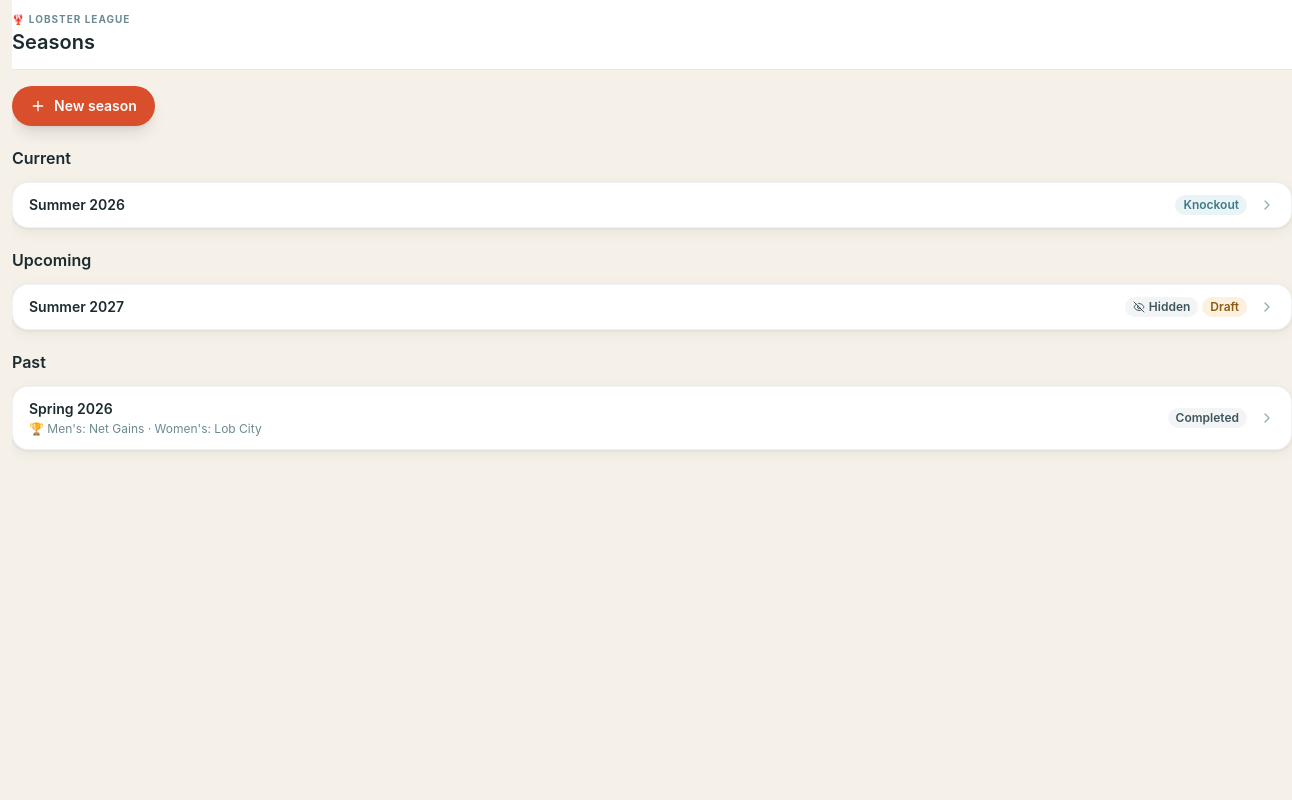
Test: SeasonsPage › requires a name and at least one division
Click the button "New season" at (83, 106), box 12,86 -> 155,126
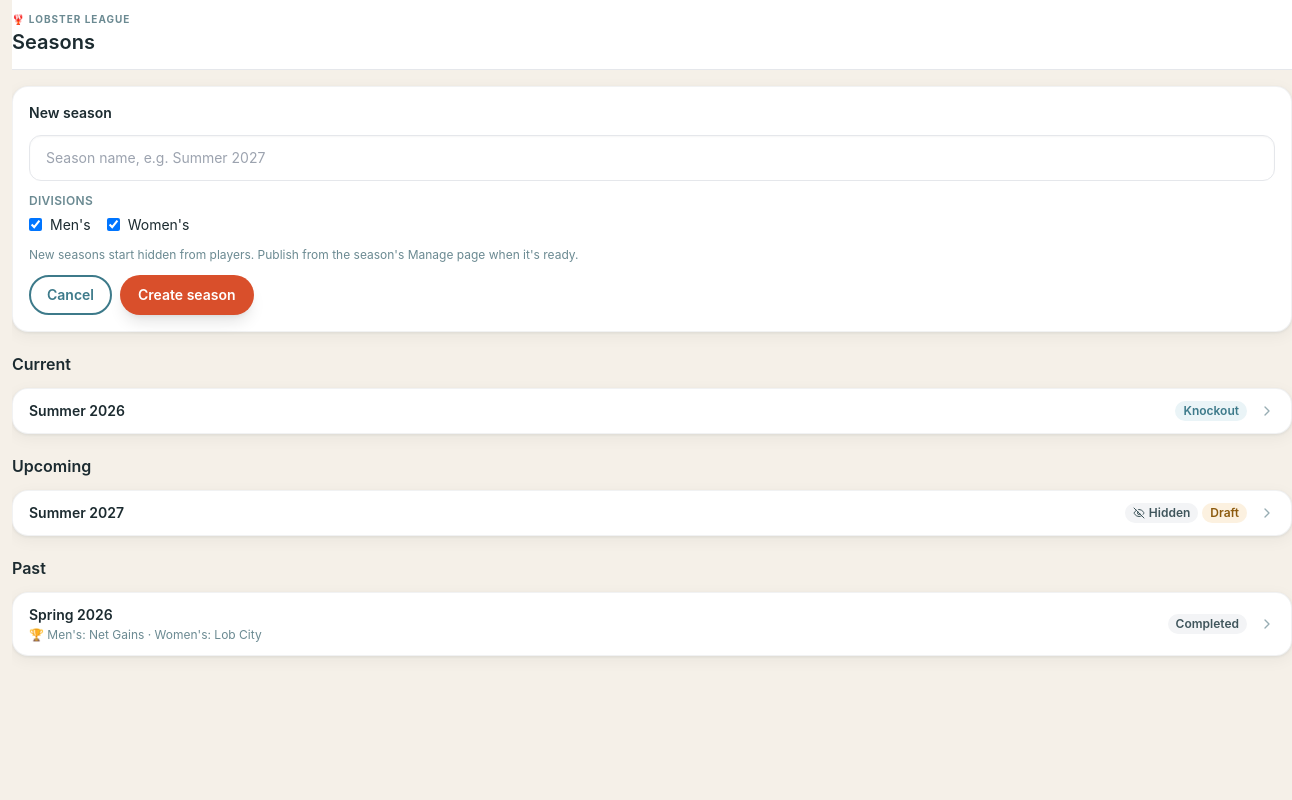
Click the button "Create season" at (187, 294), box 120,274 -> 254,314
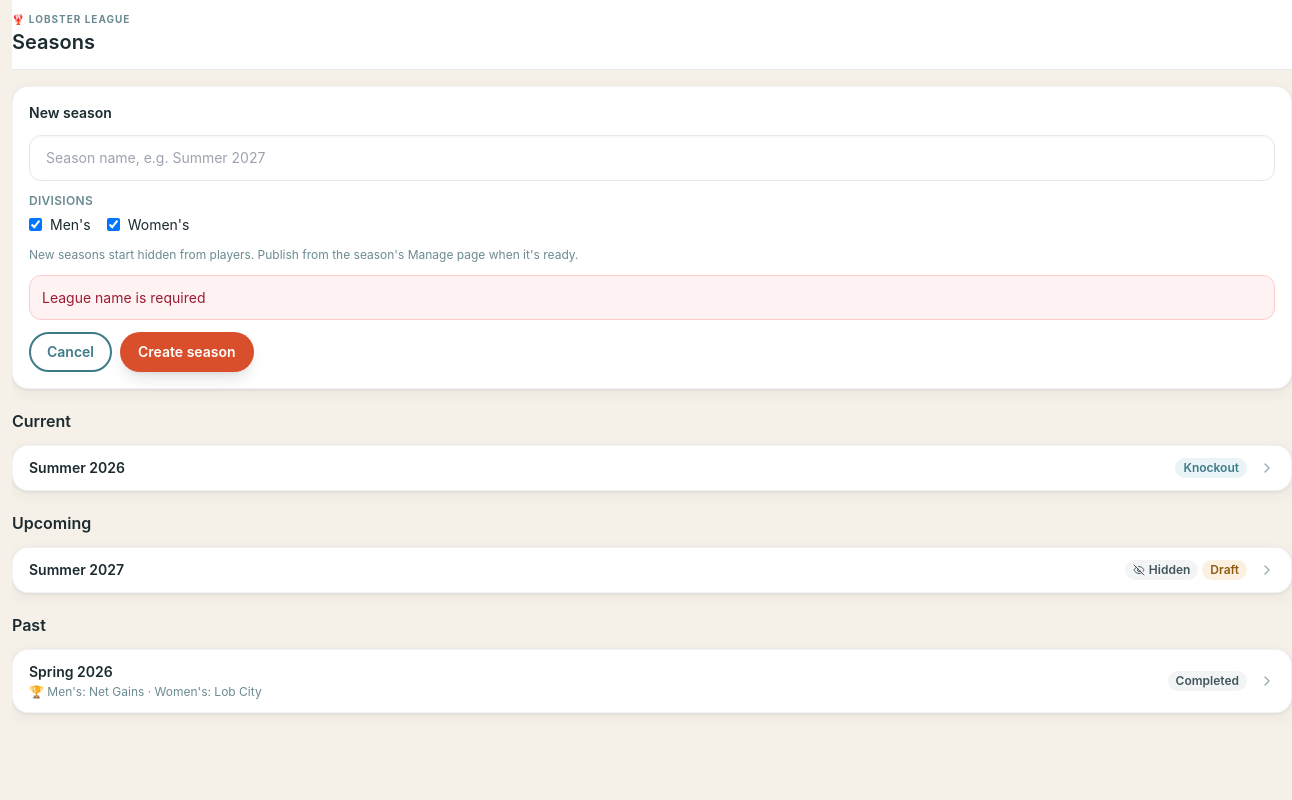
Check: the text "League name is required" is shown, box 42,288 -> 206,306
Type "X" into the field labelled "Season name" at (652, 158), box 29,134 -> 1275,180
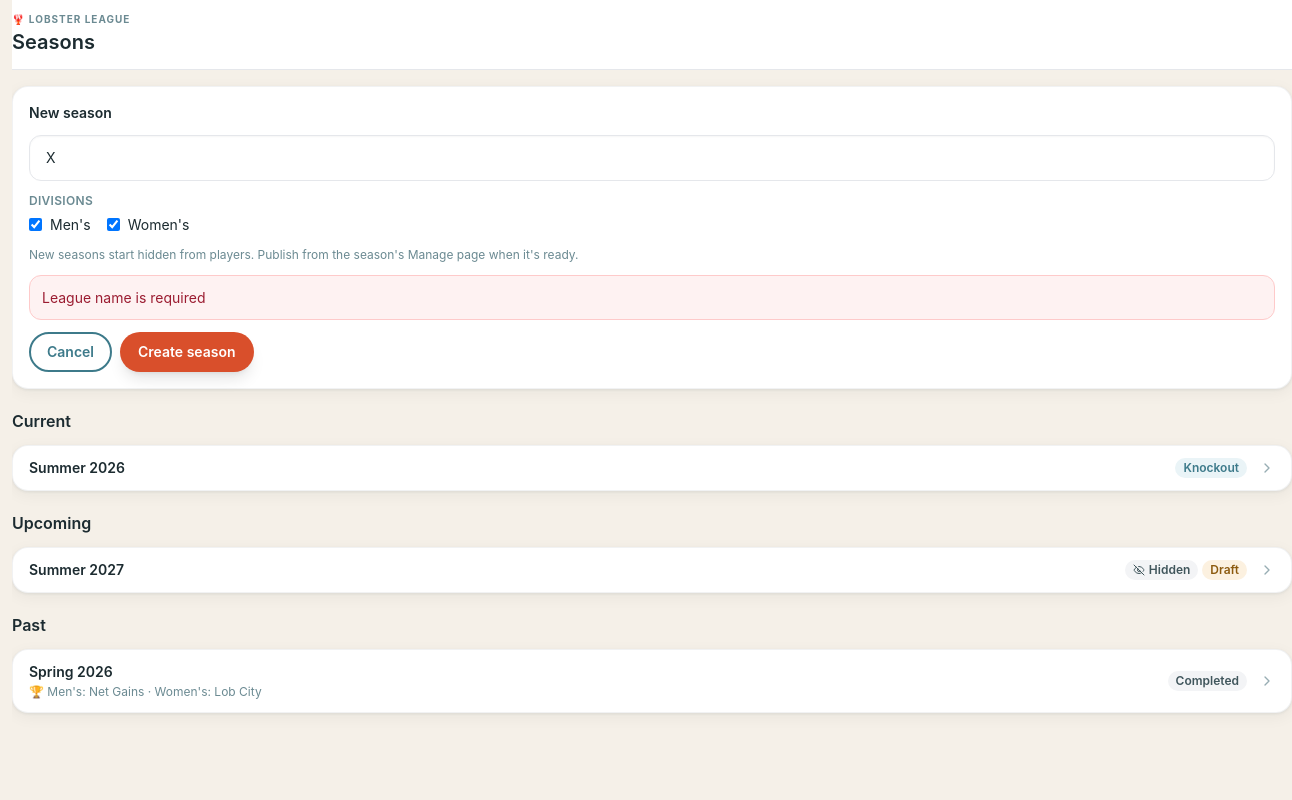
Click the checkbox labelled "Men's" at (36, 224), box 29,218 -> 42,231
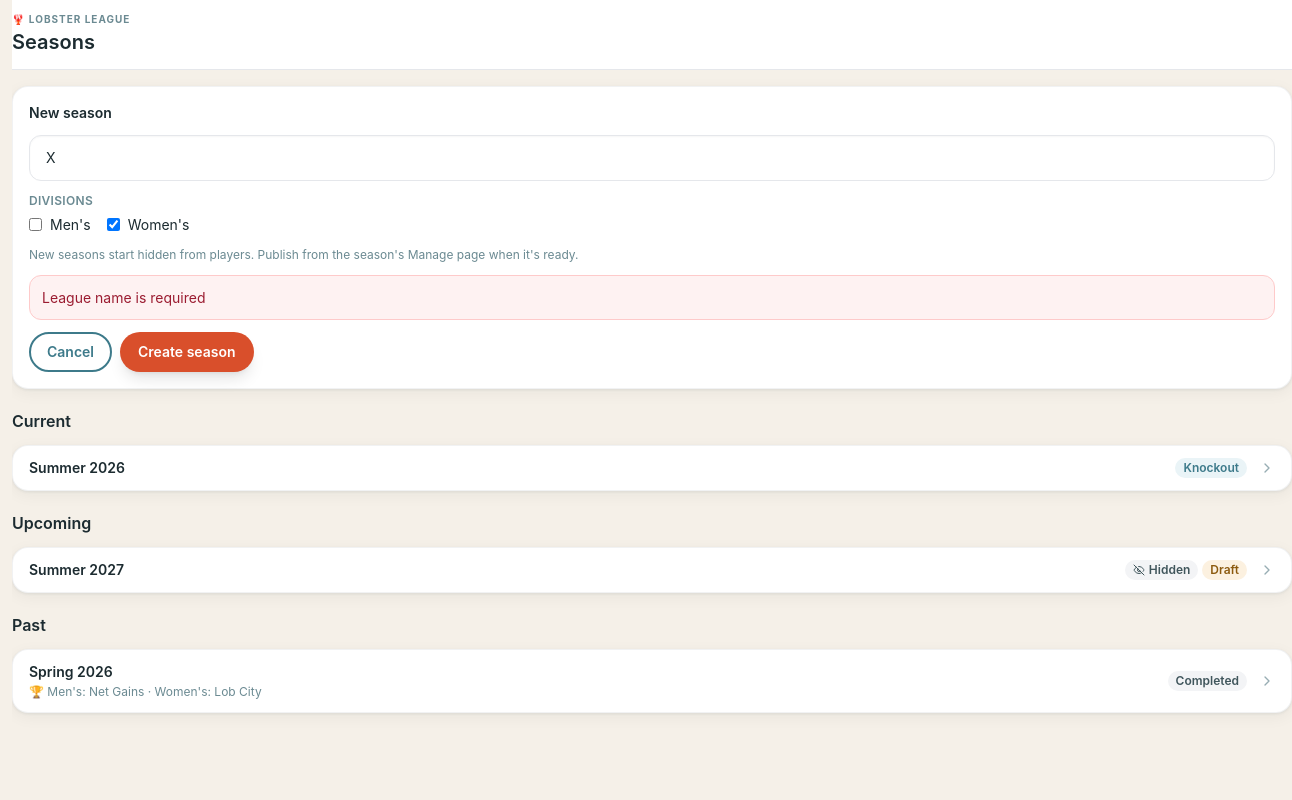
Click the checkbox labelled "Women's" at (113, 224), box 107,218 -> 120,231
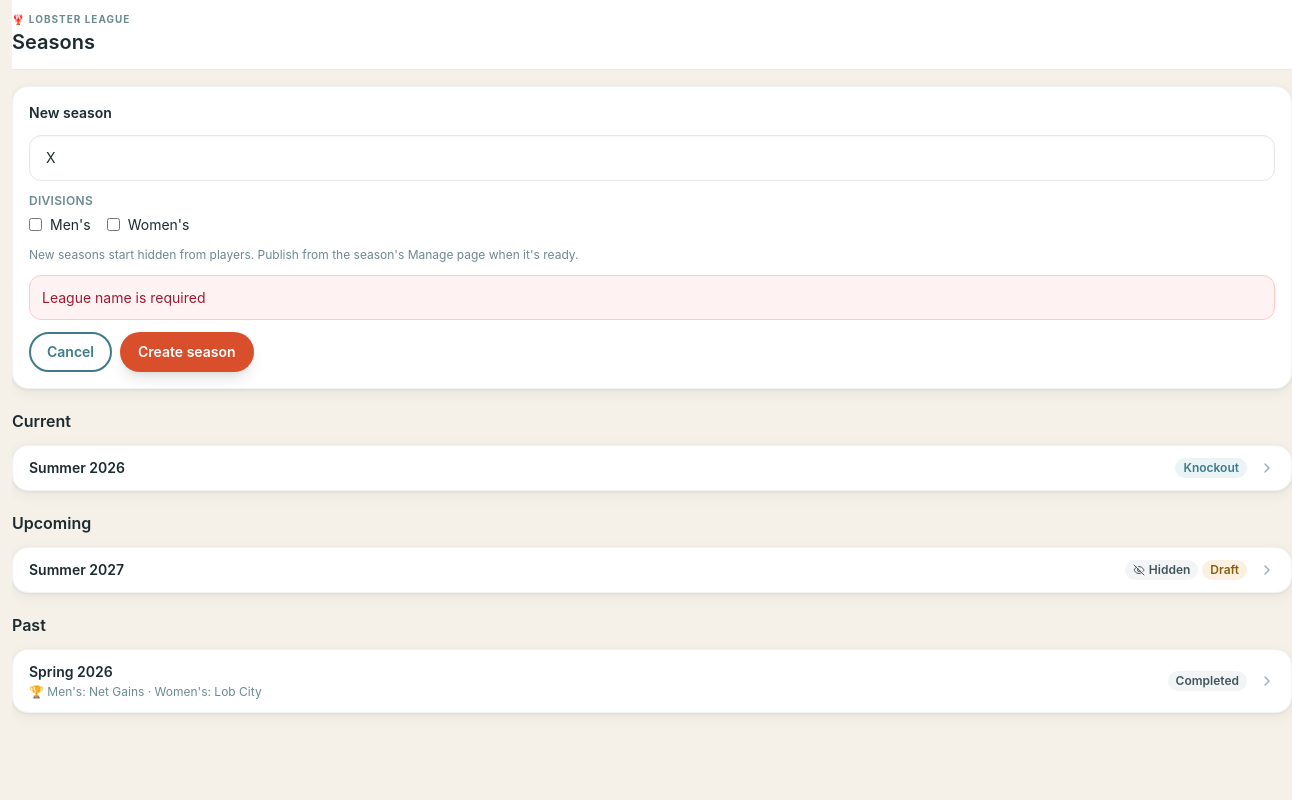
Click the button "Create season" at (187, 352), box 120,332 -> 254,372
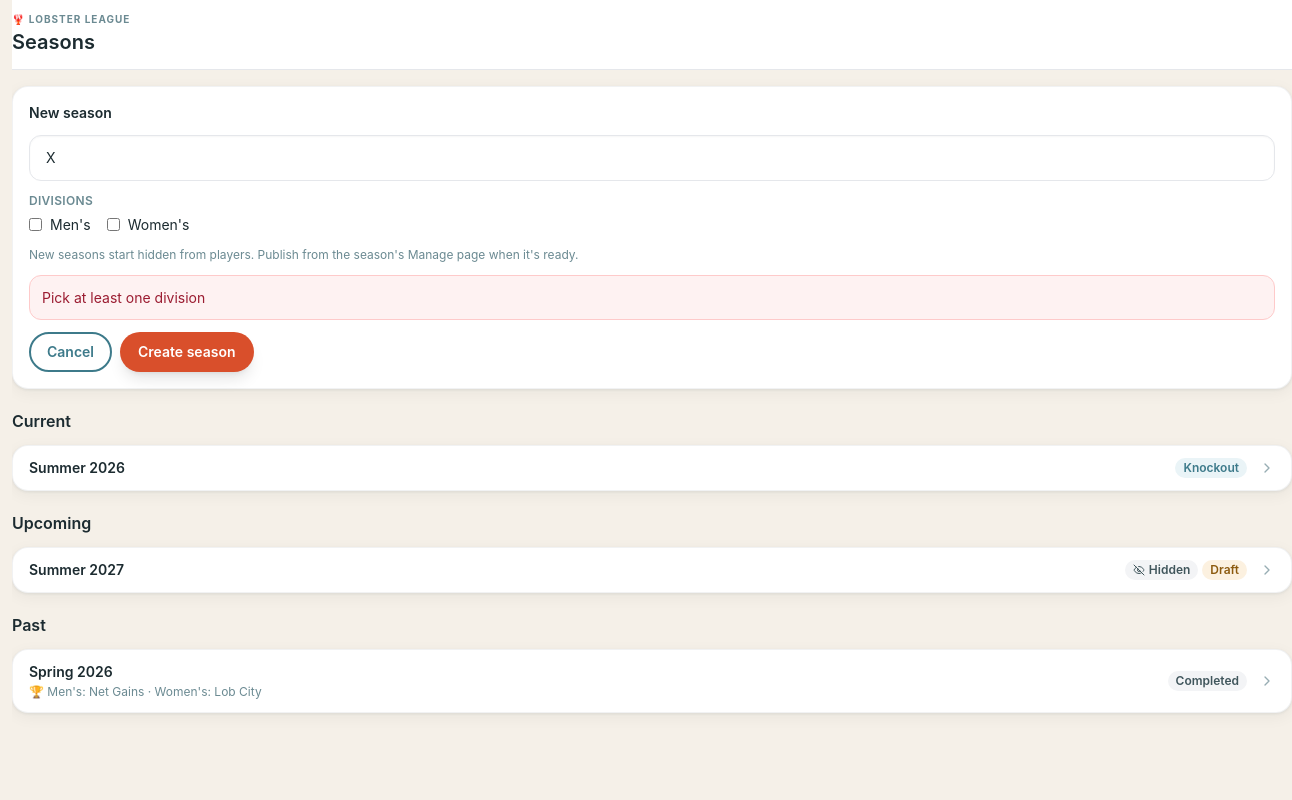
Check: the text "Pick at least one division" is shown, box 42,288 -> 205,306
